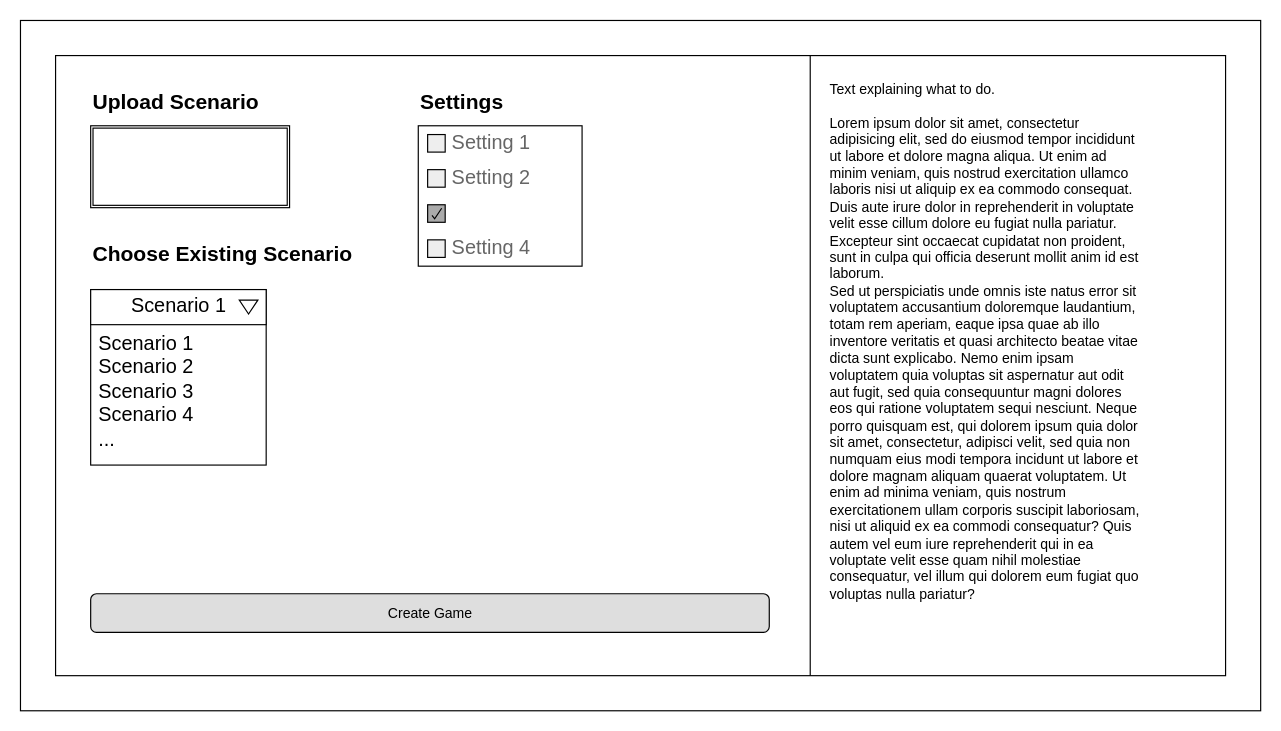
Image size: 1281x731. Some labels were removed from this diagram. The box of each missing label's shape, as (x1, y1, x2, y2) in pixels:
Drag or drop file here: (90, 125, 290, 208)
Setting 3: (426, 204, 445, 222)
